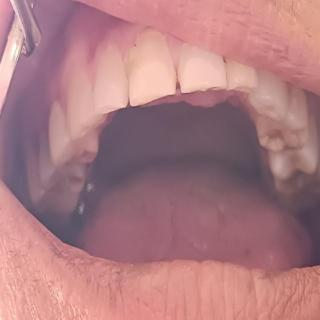UL1BC_sdecay: (257, 93, 310, 150)
UL1M_sdecay: (278, 177, 319, 193)
UL2BC_healthy: (270, 133, 319, 179)
ULCI_healthy: (179, 41, 227, 93)
ULC_healthy: (253, 72, 289, 118)
ULLI_healthy: (227, 60, 258, 92)
UR1BC_mdecay: (47, 100, 99, 165)
UR1M_healthy: (28, 150, 79, 214)
UR2BC_mdecay: (38, 129, 85, 192)
URCI_healthy: (129, 31, 176, 106)
URC_healthy: (67, 70, 109, 140)
URLI_healthy: (92, 46, 129, 113)
